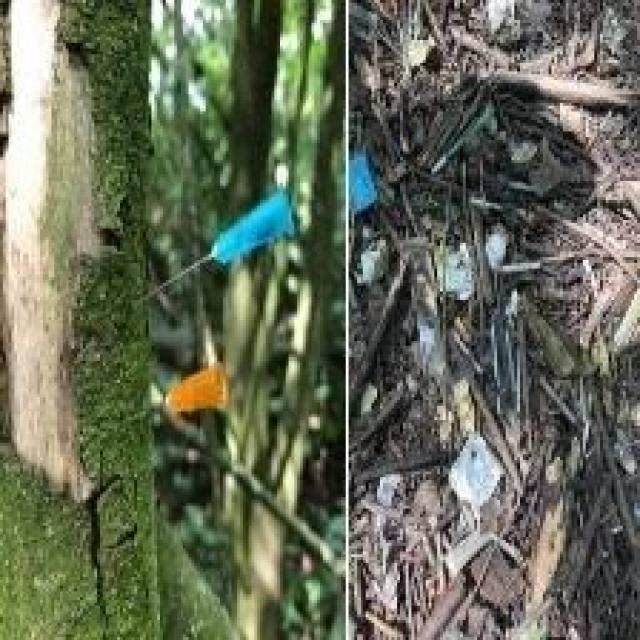syringe: (136, 172, 307, 494), (474, 295, 551, 430)
